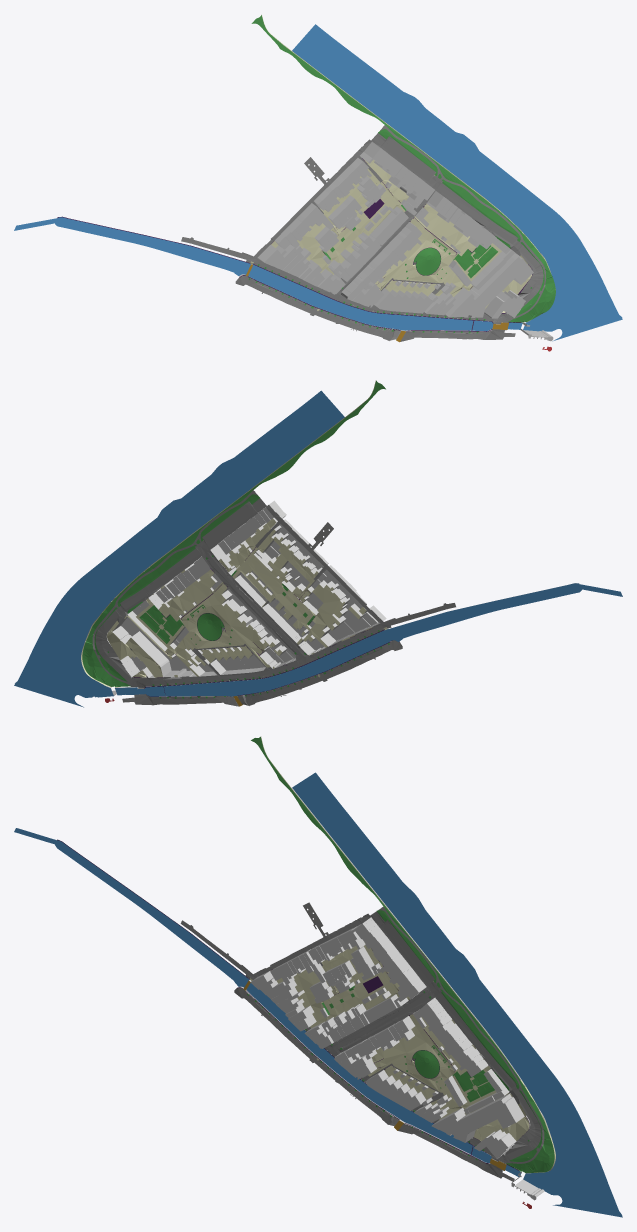
3 renders of one model, top to bottom at view 1: azimuth 30°, elevation 25°; view 2: azimuth 150°, elevation 25°; view 3: azimuth 330°, elevation 25°, orthographic.
Parts seen in each view (by area): view 1: b69a8d7bc-2d38-11e6-9a38-393caa90be70, bedab6302-00c8-11e6-b420-2bdcc4ab5d7f, b1105d28c-00ba-11e6-b420-2bdcc4ab5d7f, b2c160b4d-2d29-11e6-9a38-393caa90be70, b492abedc-00b4-11e6-b420-2bdcc4ab5d7f, b983a1b0d-00c9-11e6-b420-2bdcc4ab5d7f, b221e7287-00b5-11e6-b420-2bdcc4ab5d7f, b984231ca-00c9-11e6-b420-2bdcc4ab5d7f, b4138231e-00b4-11e6-b420-2bdcc4ab5d7f, b31be22bd-00ba-11e6-b420-2bdcc4ab5d7f, baef3f9c3-00c9-11e6-b420-2bdcc4ab5d7f, b1128007f-00ba-11e6-b420-2bdcc4ab5d7f (+8 smaller); view 2: b69a8d7bc-2d38-11e6-9a38-393caa90be70, bedab6302-00c8-11e6-b420-2bdcc4ab5d7f, b1105d28c-00ba-11e6-b420-2bdcc4ab5d7f, b2c160b4d-2d29-11e6-9a38-393caa90be70, b492abedc-00b4-11e6-b420-2bdcc4ab5d7f, b221e7287-00b5-11e6-b420-2bdcc4ab5d7f, b983a1b0d-00c9-11e6-b420-2bdcc4ab5d7f, b4138231e-00b4-11e6-b420-2bdcc4ab5d7f, b2223065e-00b5-11e6-b420-2bdcc4ab5d7f, b4931c302-00b4-11e6-b420-2bdcc4ab5d7f, b22250278-00b5-11e6-b420-2bdcc4ab5d7f, b984231ca-00c9-11e6-b420-2bdcc4ab5d7f (+14 smaller); view 3: b69a8d7bc-2d38-11e6-9a38-393caa90be70, bedab6302-00c8-11e6-b420-2bdcc4ab5d7f, b1105d28c-00ba-11e6-b420-2bdcc4ab5d7f, b2c160b4d-2d29-11e6-9a38-393caa90be70, b492abedc-00b4-11e6-b420-2bdcc4ab5d7f, b4138231e-00b4-11e6-b420-2bdcc4ab5d7f, b983a1b0d-00c9-11e6-b420-2bdcc4ab5d7f, b82575848-2d29-11e6-9a38-393caa90be70, b4931c302-00b4-11e6-b420-2bdcc4ab5d7f, b2223065e-00b5-11e6-b420-2bdcc4ab5d7f, baef3f9c3-00c9-11e6-b420-2bdcc4ab5d7f, b31be22bd-00ba-11e6-b420-2bdcc4ab5d7f.
Part boxes in pixels (bbox=[...]): b69a8d7bc-2d38-11e6-9a38-393caa90be70: bbox=[292, 24, 622, 341]; bedab6302-00c8-11e6-b420-2bdcc4ab5d7f: bbox=[14, 217, 473, 330]; b1105d28c-00ba-11e6-b420-2bdcc4ab5d7f: bbox=[445, 253, 533, 317]; b2c160b4d-2d29-11e6-9a38-393caa90be70: bbox=[251, 15, 531, 247]; b492abedc-00b4-11e6-b420-2bdcc4ab5d7f: bbox=[379, 221, 456, 290]; b983a1b0d-00c9-11e6-b420-2bdcc4ab5d7f: bbox=[254, 139, 382, 257]; b221e7287-00b5-11e6-b420-2bdcc4ab5d7f: bbox=[414, 203, 476, 256]; b984231ca-00c9-11e6-b420-2bdcc4ab5d7f: bbox=[181, 237, 332, 297]; b4138231e-00b4-11e6-b420-2bdcc4ab5d7f: bbox=[320, 182, 405, 272]; b31be22bd-00ba-11e6-b420-2bdcc4ab5d7f: bbox=[484, 290, 525, 318]; baef3f9c3-00c9-11e6-b420-2bdcc4ab5d7f: bbox=[402, 330, 515, 341]; b1128007f-00ba-11e6-b420-2bdcc4ab5d7f: bbox=[370, 206, 408, 245]; b69a8d7bc-2d38-11e6-9a38-393caa90be70: bbox=[14, 390, 344, 707]; bedab6302-00c8-11e6-b420-2bdcc4ab5d7f: bbox=[164, 583, 622, 696]; b1105d28c-00ba-11e6-b420-2bdcc4ab5d7f: bbox=[112, 616, 196, 677]; b2c160b4d-2d29-11e6-9a38-393caa90be70: bbox=[106, 380, 385, 613]; b492abedc-00b4-11e6-b420-2bdcc4ab5d7f: bbox=[181, 586, 270, 667]; b221e7287-00b5-11e6-b420-2bdcc4ab5d7f: bbox=[158, 569, 223, 621]; b983a1b0d-00c9-11e6-b420-2bdcc4ab5d7f: bbox=[255, 505, 383, 622]; b4138231e-00b4-11e6-b420-2bdcc4ab5d7f: bbox=[232, 547, 327, 647]; b2223065e-00b5-11e6-b420-2bdcc4ab5d7f: bbox=[311, 584, 344, 638]; b4931c302-00b4-11e6-b420-2bdcc4ab5d7f: bbox=[211, 595, 275, 654]; b22250278-00b5-11e6-b420-2bdcc4ab5d7f: bbox=[255, 535, 318, 582]; b984231ca-00c9-11e6-b420-2bdcc4ab5d7f: bbox=[303, 603, 455, 663]; b69a8d7bc-2d38-11e6-9a38-393caa90be70: bbox=[292, 772, 622, 1217]; bedab6302-00c8-11e6-b420-2bdcc4ab5d7f: bbox=[14, 828, 472, 1154]; b1105d28c-00ba-11e6-b420-2bdcc4ab5d7f: bbox=[431, 1093, 524, 1142]; b2c160b4d-2d29-11e6-9a38-393caa90be70: bbox=[251, 736, 530, 1100]; b492abedc-00b4-11e6-b420-2bdcc4ab5d7f: bbox=[368, 1019, 455, 1092]; b4138231e-00b4-11e6-b420-2bdcc4ab5d7f: bbox=[310, 962, 399, 1028]; b983a1b0d-00c9-11e6-b420-2bdcc4ab5d7f: bbox=[253, 902, 379, 976]; b82575848-2d29-11e6-9a38-393caa90be70: bbox=[261, 736, 551, 1138]; b4931c302-00b4-11e6-b420-2bdcc4ab5d7f: bbox=[371, 1026, 425, 1068]; b2223065e-00b5-11e6-b420-2bdcc4ab5d7f: bbox=[293, 969, 324, 1021]; baef3f9c3-00c9-11e6-b420-2bdcc4ab5d7f: bbox=[399, 1124, 514, 1181]; b31be22bd-00ba-11e6-b420-2bdcc4ab5d7f: bbox=[474, 1129, 516, 1158].
Size of the model in its own units: 524 by 328 by 14.95.
